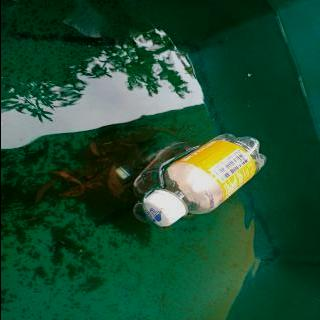bottle: (140, 132, 269, 228)
